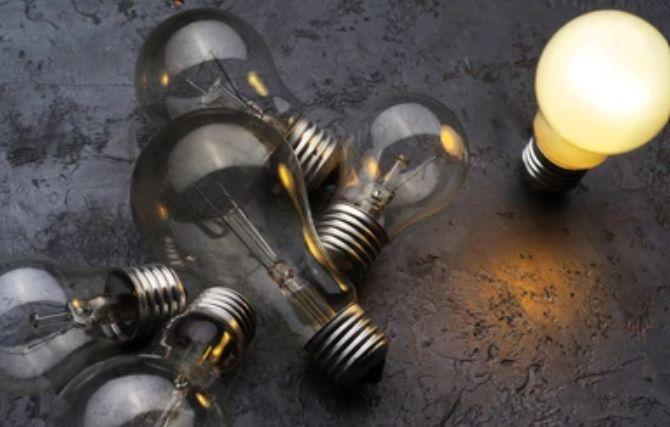light bulb: (127, 100, 391, 396), (130, 4, 347, 197), (296, 89, 473, 288), (513, 3, 670, 207), (46, 283, 265, 427), (0, 256, 190, 395)
